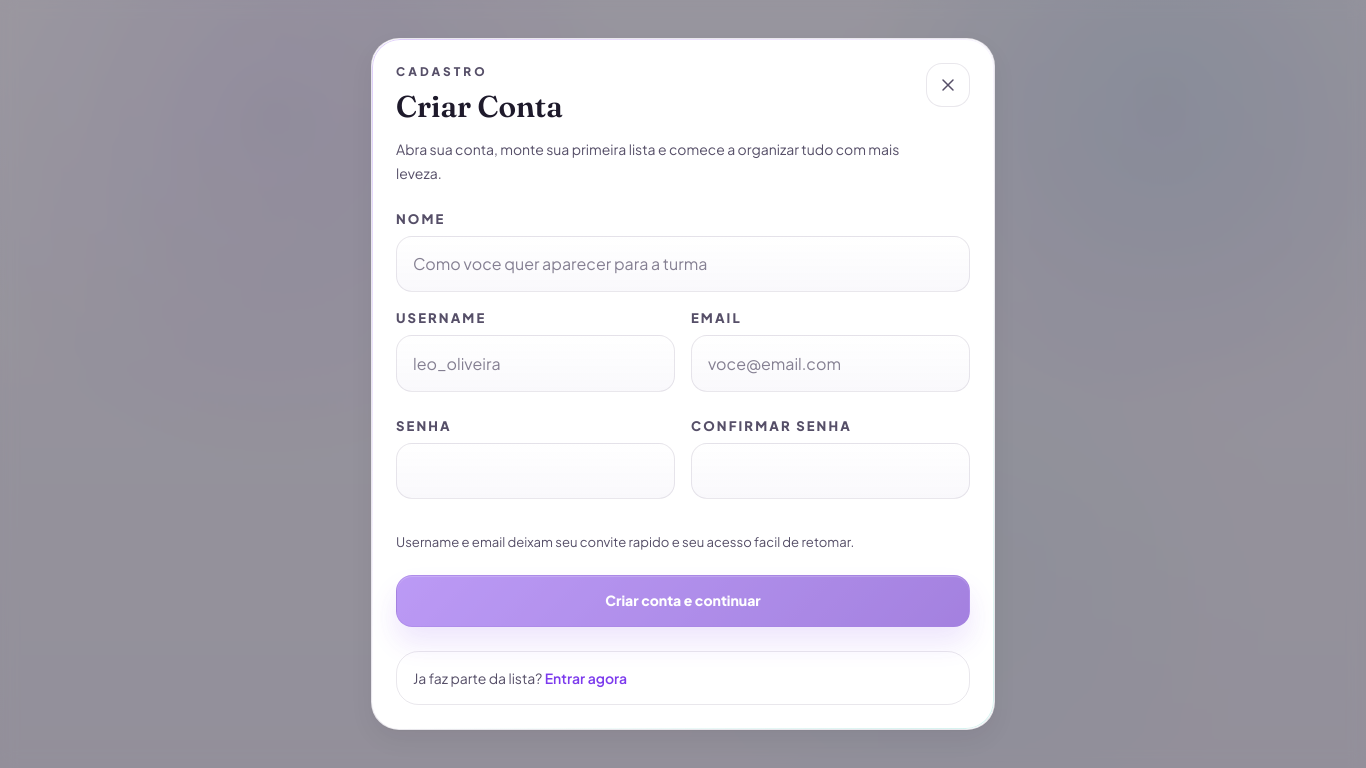
Test: RegisterModal › mostra erro quando username e invalido
The image size is (1366, 768).
Type "Le!" into the field labelled "Username" at (536, 364), box [396,335,675,392]
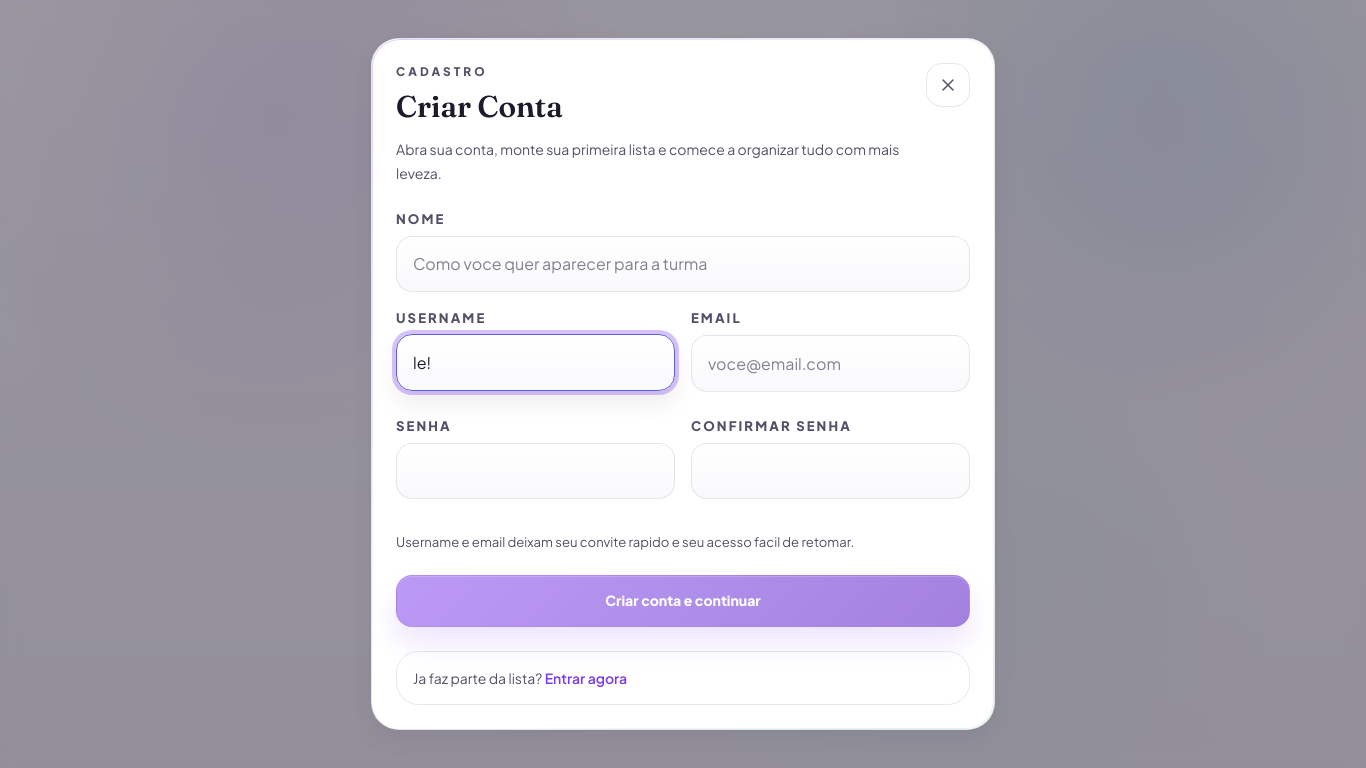
Type "leo@test.com" into the field labelled "Email" at (830, 364), box [691,335,970,392]
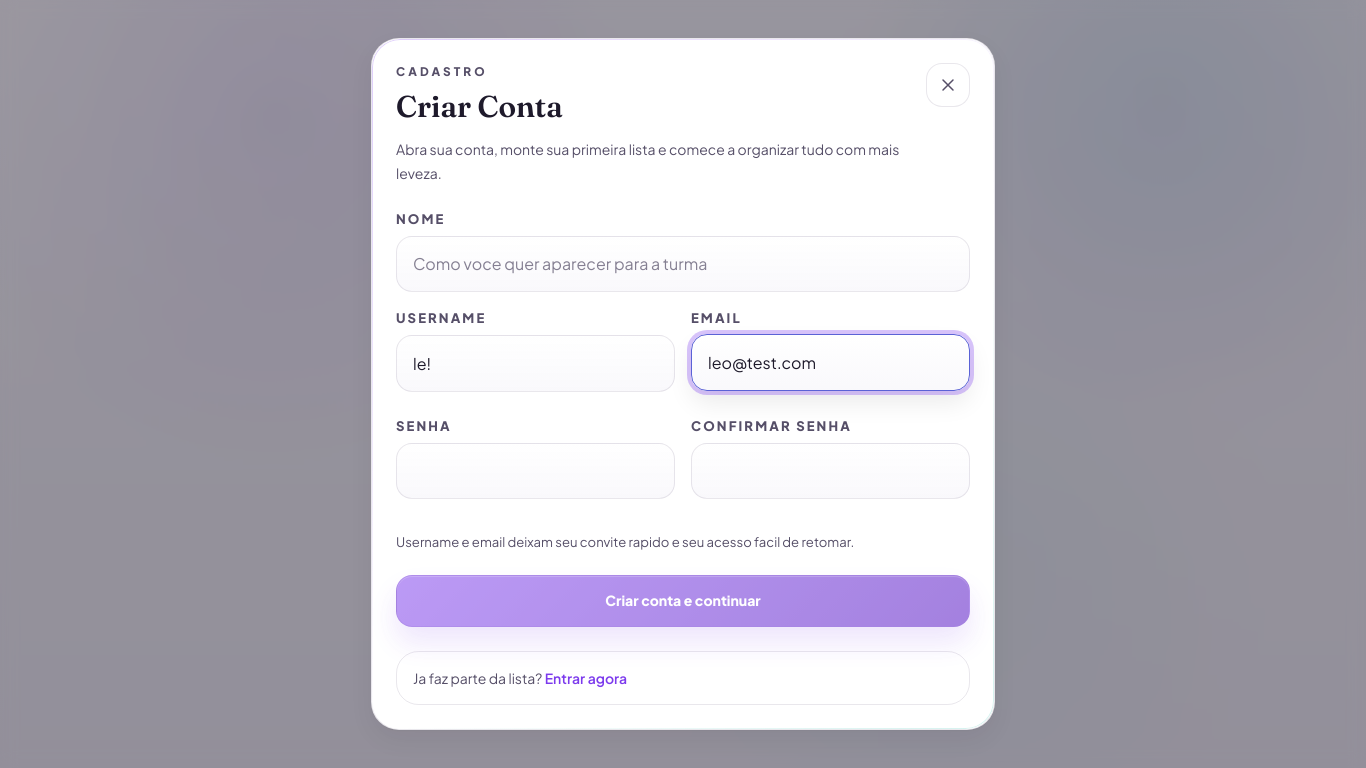
Type "123456" into the password field labelled "Senha" at (536, 471), box [396,443,675,499]
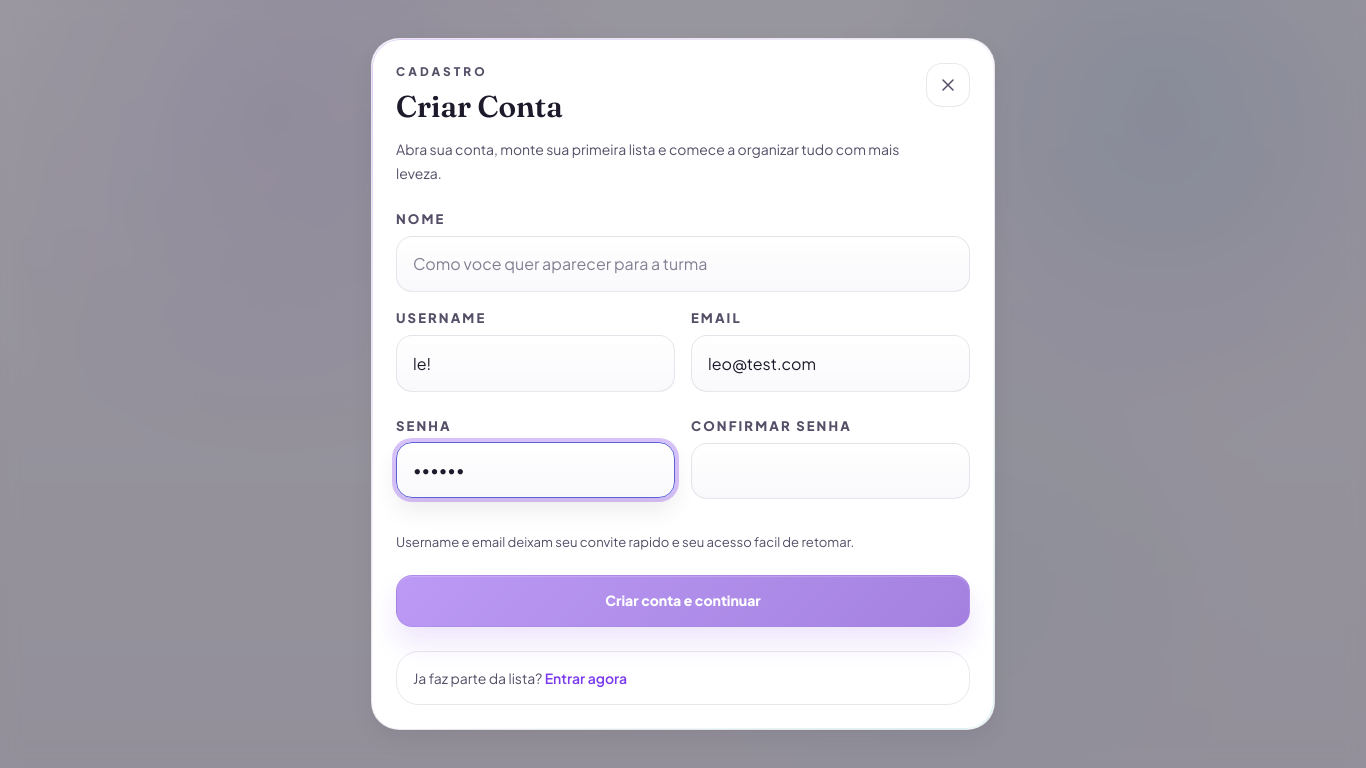
Type "123456" into the password field labelled "Confirmar senha" at (830, 471), box [691,443,970,499]
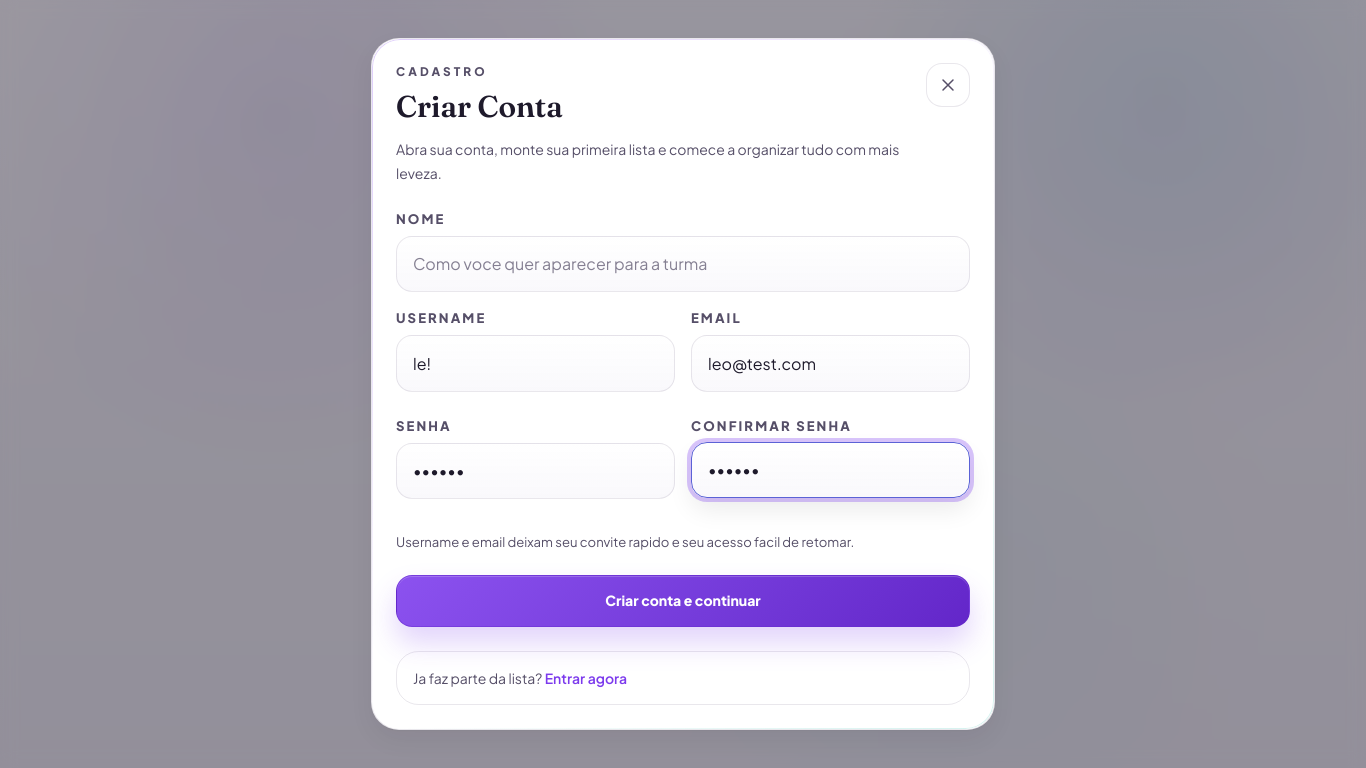
Click the button "Criar conta e continuar" at (683, 601), box [396,575,970,627]
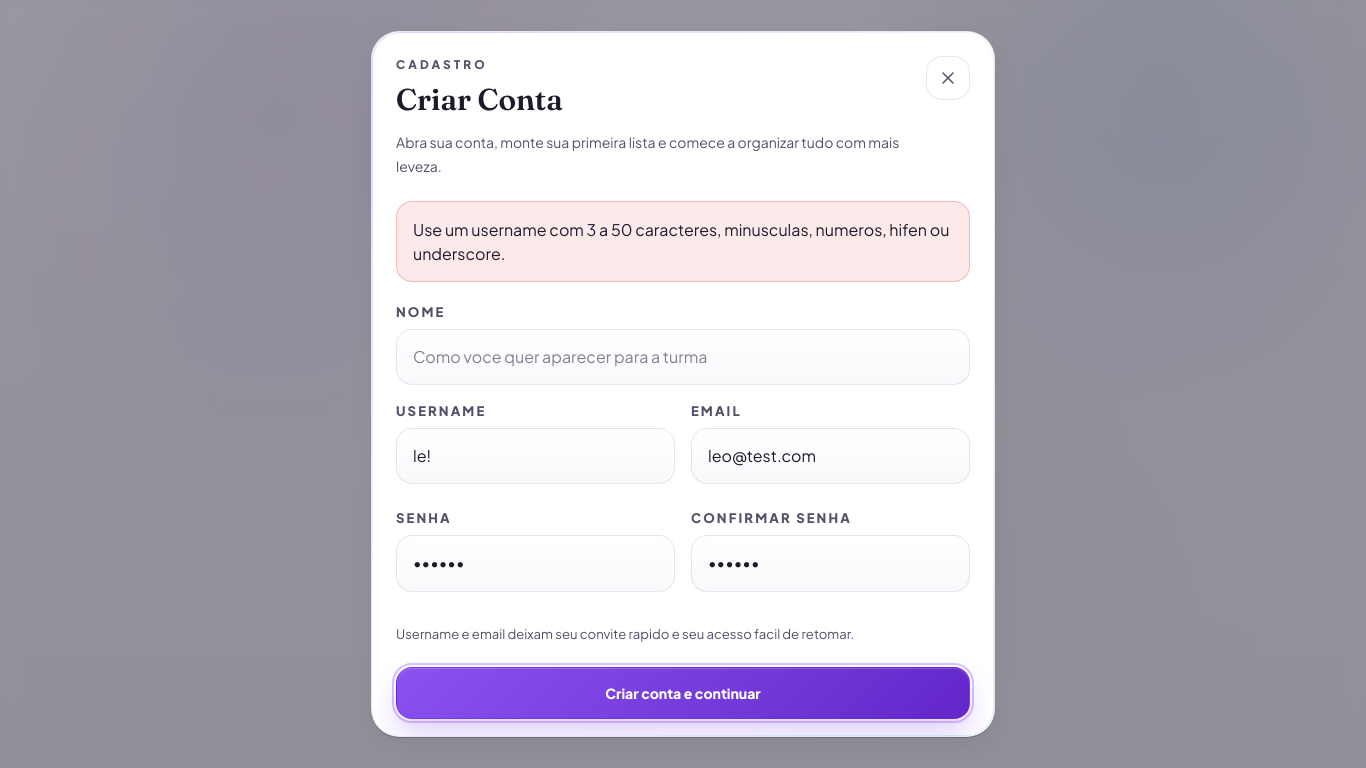
Expected: the text "Use um username com 3 a 50 caracteres, minusculas, numeros, hifen ou underscore." is shown, [396,202,970,282]
